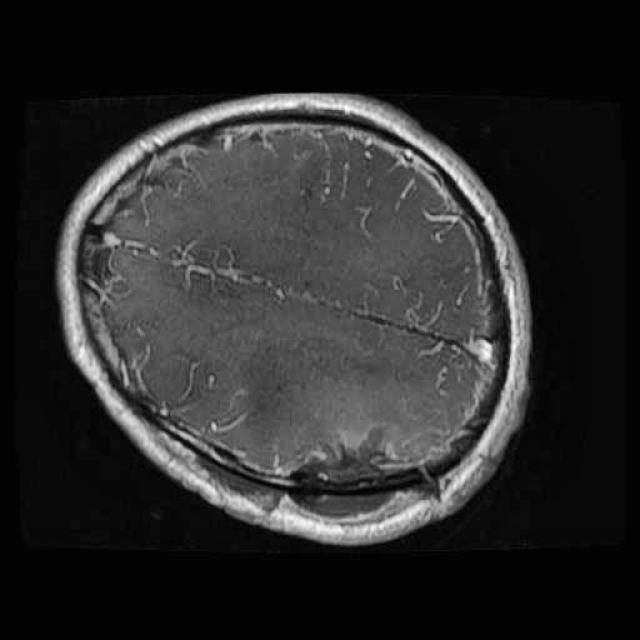Tumor: (276, 422, 410, 532)
